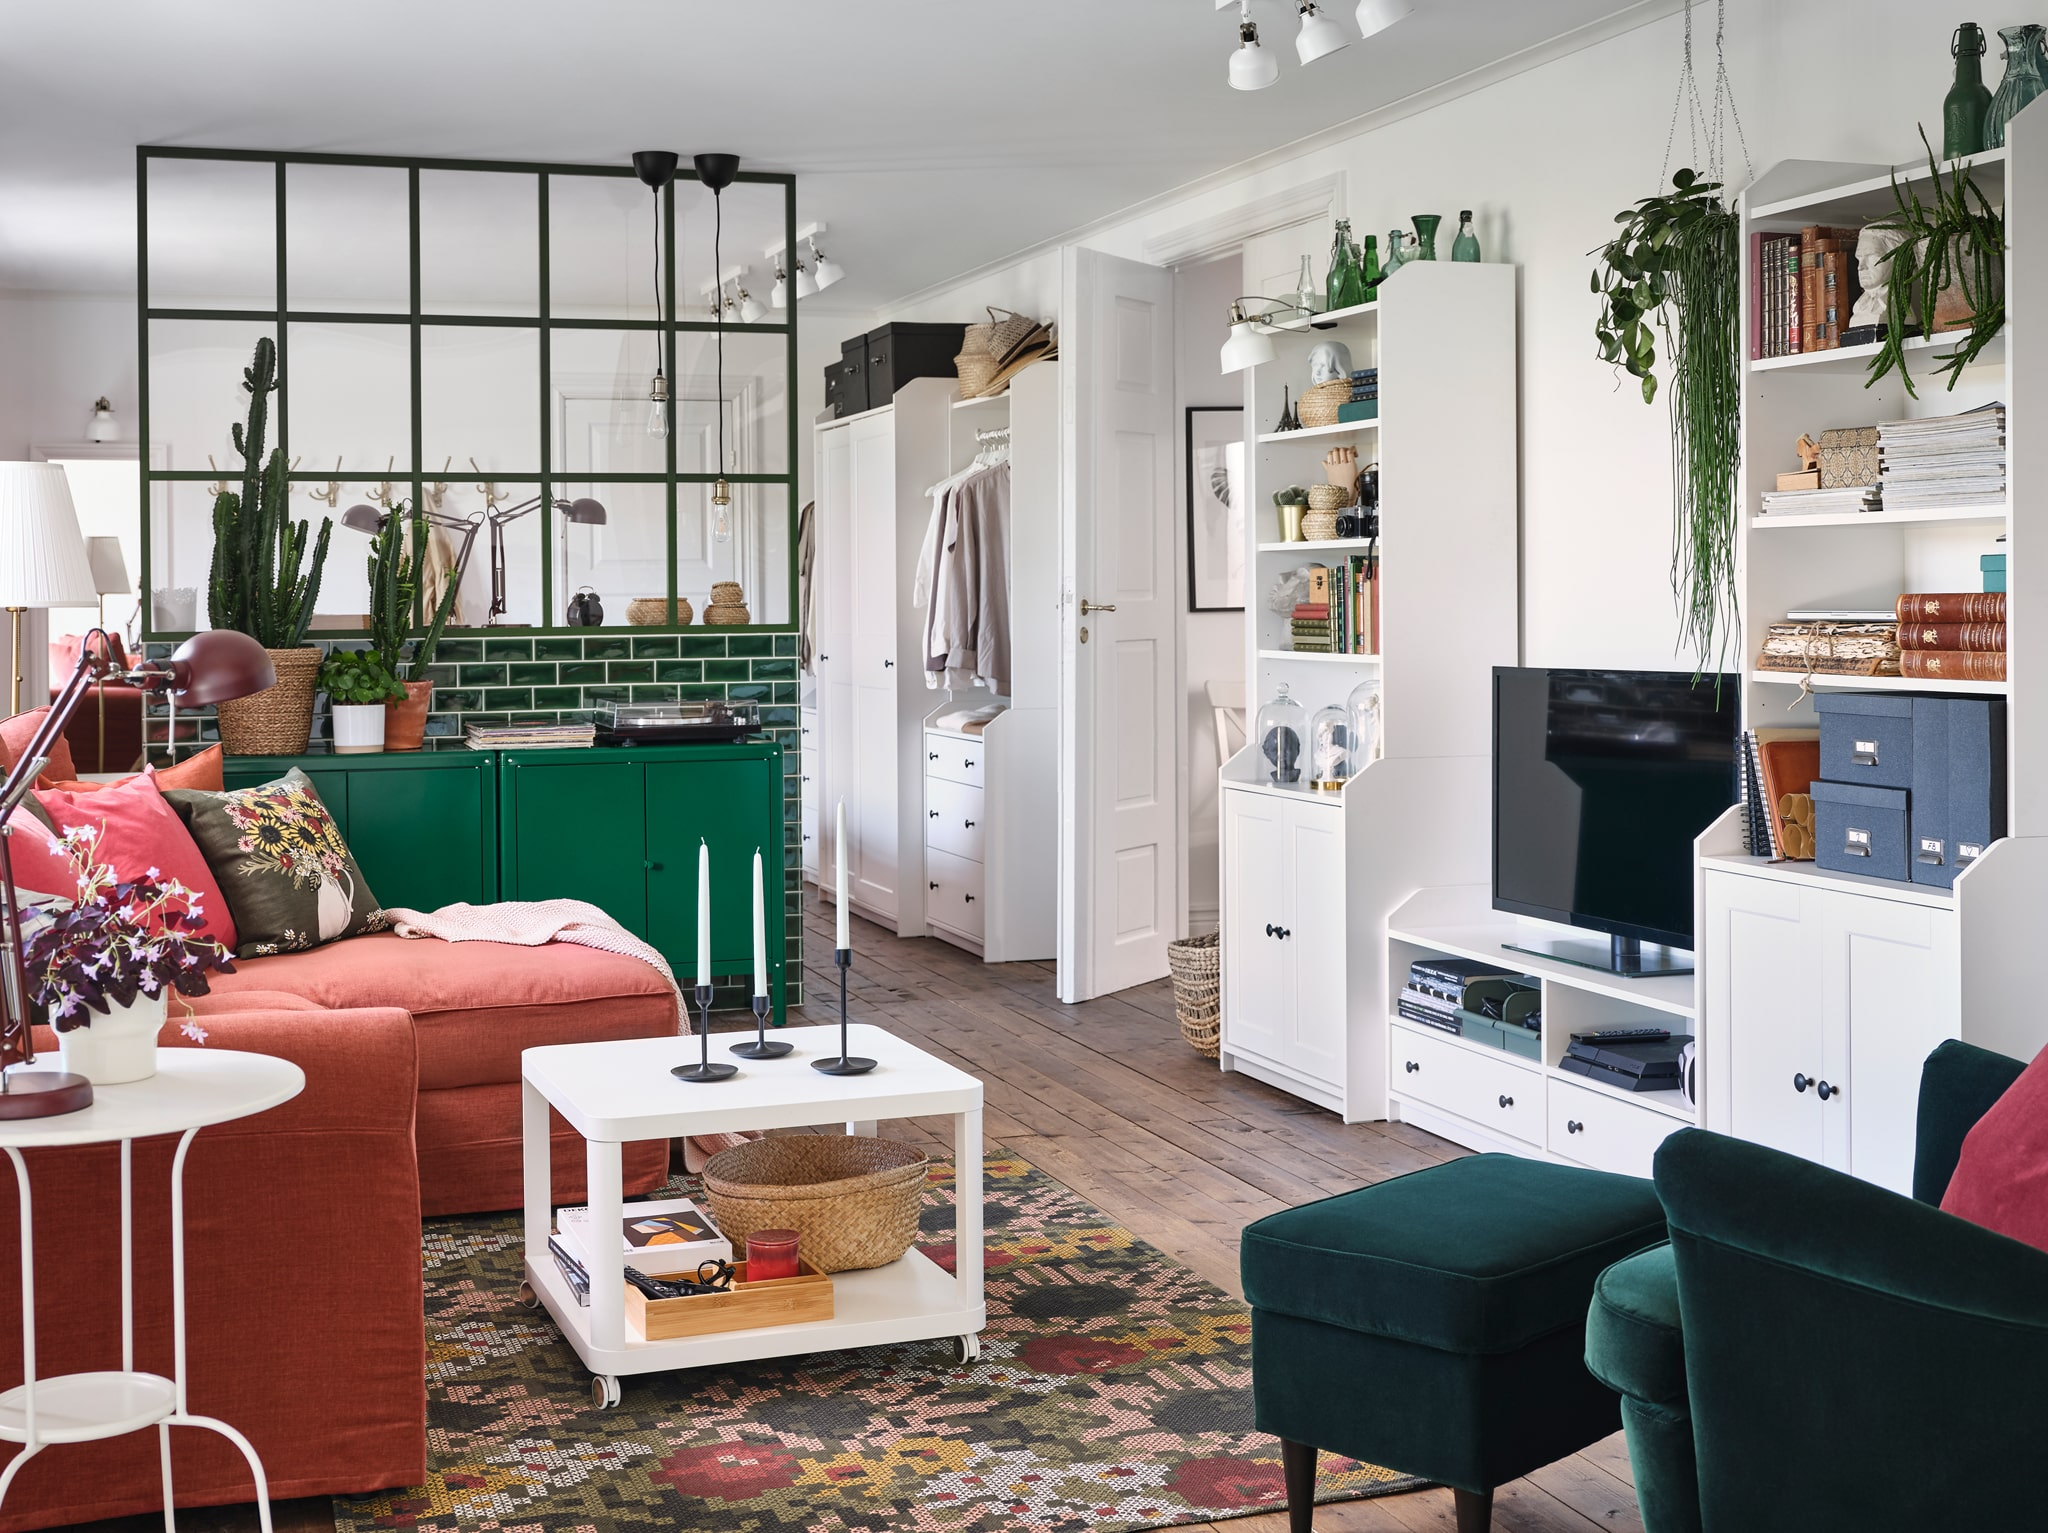buku: (1745, 229, 1850, 349), (1868, 419, 2009, 507), (1877, 589, 2019, 678), (469, 707, 602, 749), (1323, 557, 1372, 652)
lampu: (2, 631, 259, 1113)
meja: (504, 1039, 1037, 1377), (2, 1042, 275, 1523)
sova: (27, 707, 742, 1459), (1584, 1019, 2048, 1530)
tanaman: (1583, 187, 1765, 676), (24, 873, 214, 1081), (204, 340, 314, 638), (1876, 198, 2008, 367), (357, 530, 446, 750), (312, 652, 396, 750)
